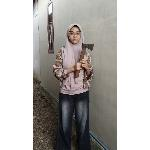Kapak: (73, 40, 96, 80)
